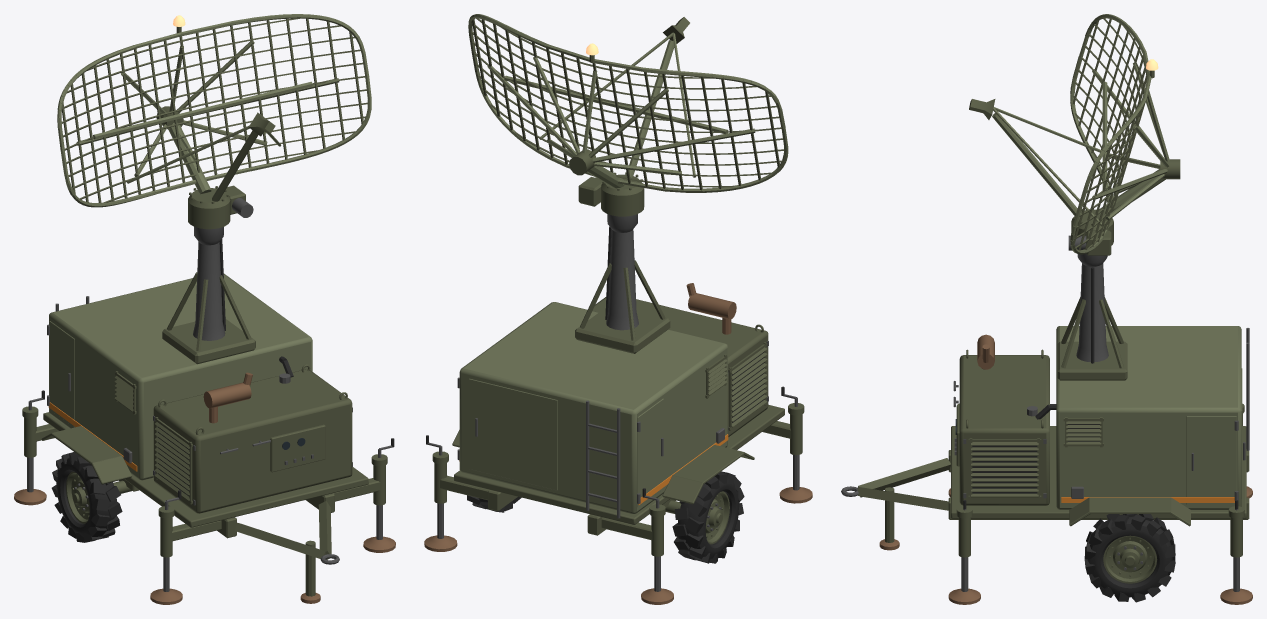
Rendered from Enemy_Radar.fbx.
The picture shows the model from 3 angles, left to right: view 1: azimuth 30°, elevation 25°; view 2: azimuth 150°, elevation 25°; view 3: azimuth 270°, elevation 25°; orthographic projection.
Parts seen in each view (by area): view 1: Enemy_Radar_Mesh, Turret; view 2: Enemy_Radar_Mesh, Turret; view 3: Enemy_Radar_Mesh, Turret.
Boxes of the visible parts, x1=… form: Enemy_Radar_Mesh: x1=14, y1=227, x2=395, y2=604; Turret: x1=57, y1=14, x2=371, y2=229; Enemy_Radar_Mesh: x1=424, y1=214, x2=812, y2=604; Turret: x1=468, y1=14, x2=788, y2=216; Enemy_Radar_Mesh: x1=841, y1=254, x2=1252, y2=604; Turret: x1=969, y1=14, x2=1180, y2=255.
Size of the model in its own units: 2.84 by 4.29 by 3.29.
